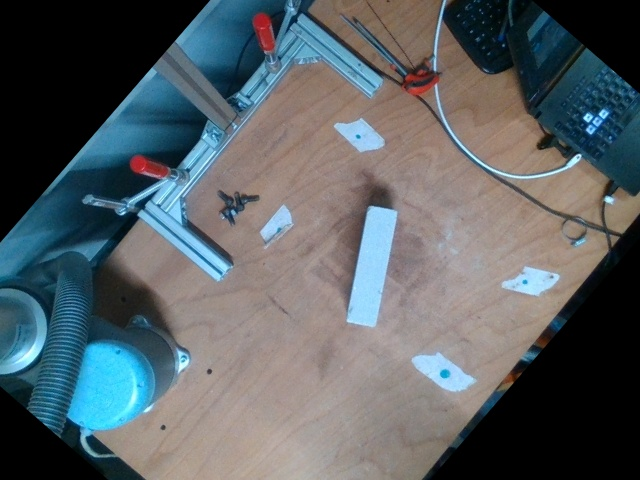brick-side: (346, 205, 397, 329)
